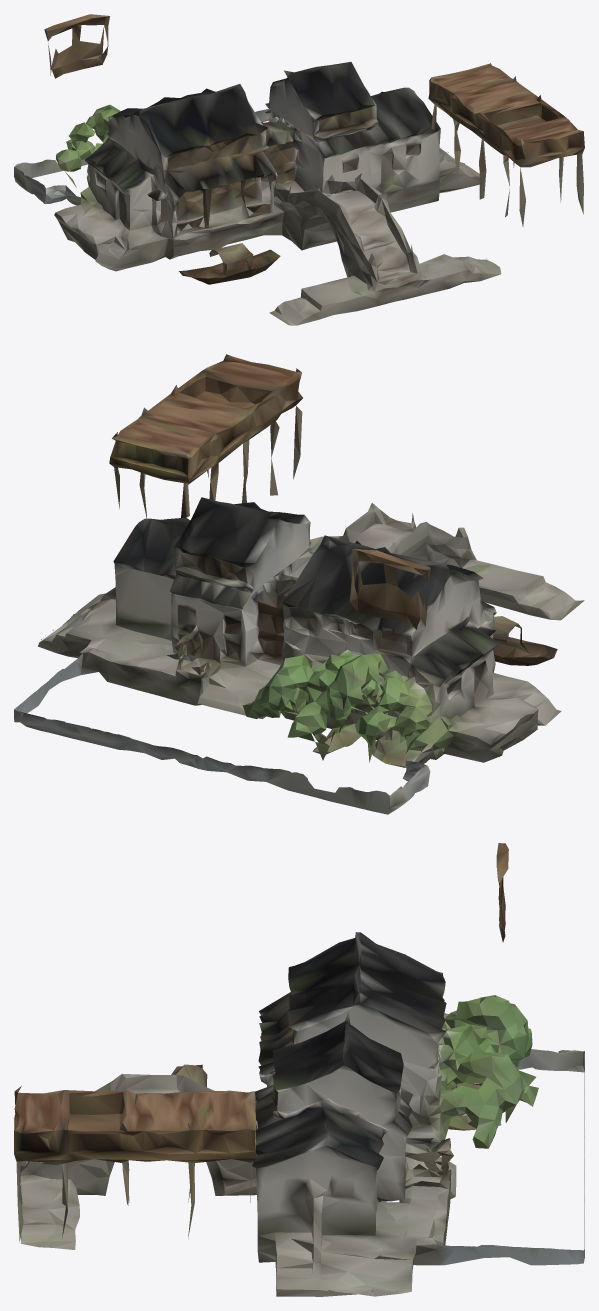
Rendered from bq_canal_house.vc.glb.
3 renders of one model, top to bottom at view 1: azimuth 30°, elevation 25°; view 2: azimuth 150°, elevation 25°; view 3: azimuth 270°, elevation 25°, orthographic. The views are drawn at different scales.
Visible parts, largest first — view 1: bq_canal_house; view 2: bq_canal_house; view 3: bq_canal_house.
Part boxes in pixels (x1,y1,x2,y2): bq_canal_house: (14, 14, 584, 325); bq_canal_house: (14, 354, 584, 814); bq_canal_house: (14, 843, 584, 1296).
Bounding box in the file's own units: 1.88 × 0.8607 × 1.9.
